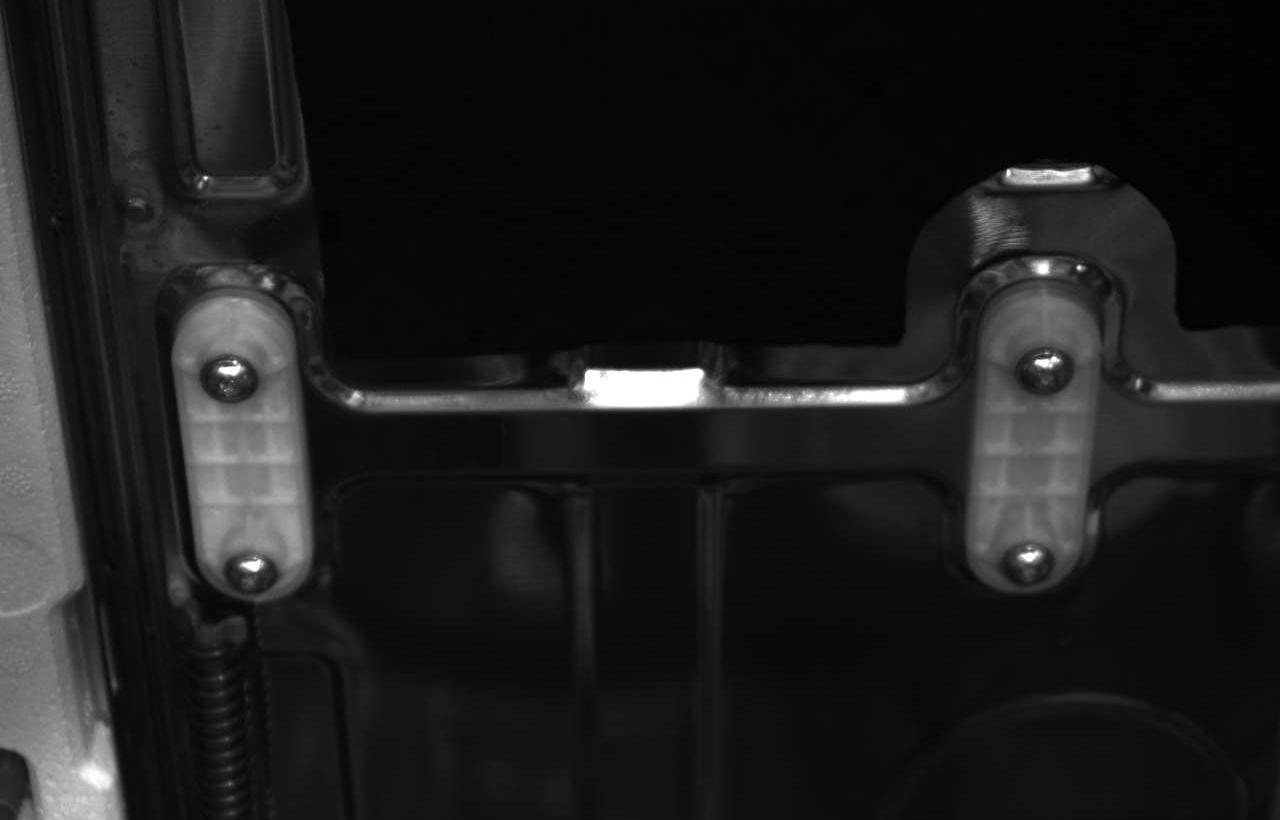vida-ok: (194, 344, 266, 411), (1011, 335, 1079, 402), (996, 528, 1061, 597), (221, 544, 287, 602)
